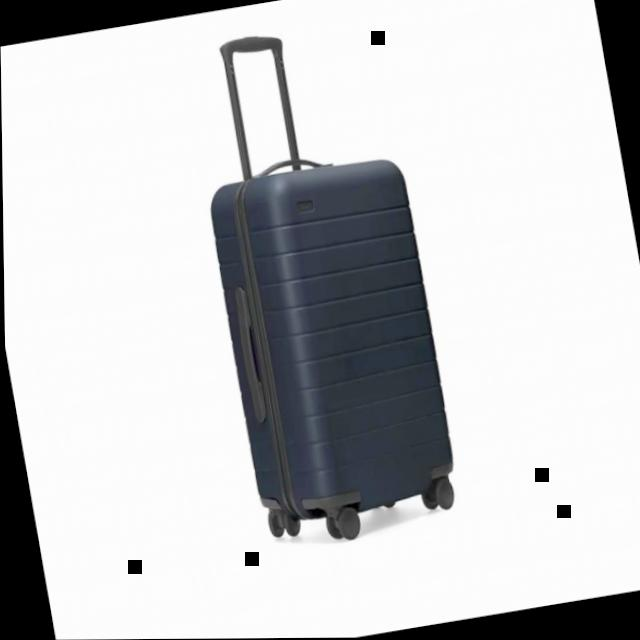luggage: (198, 141, 465, 533)
